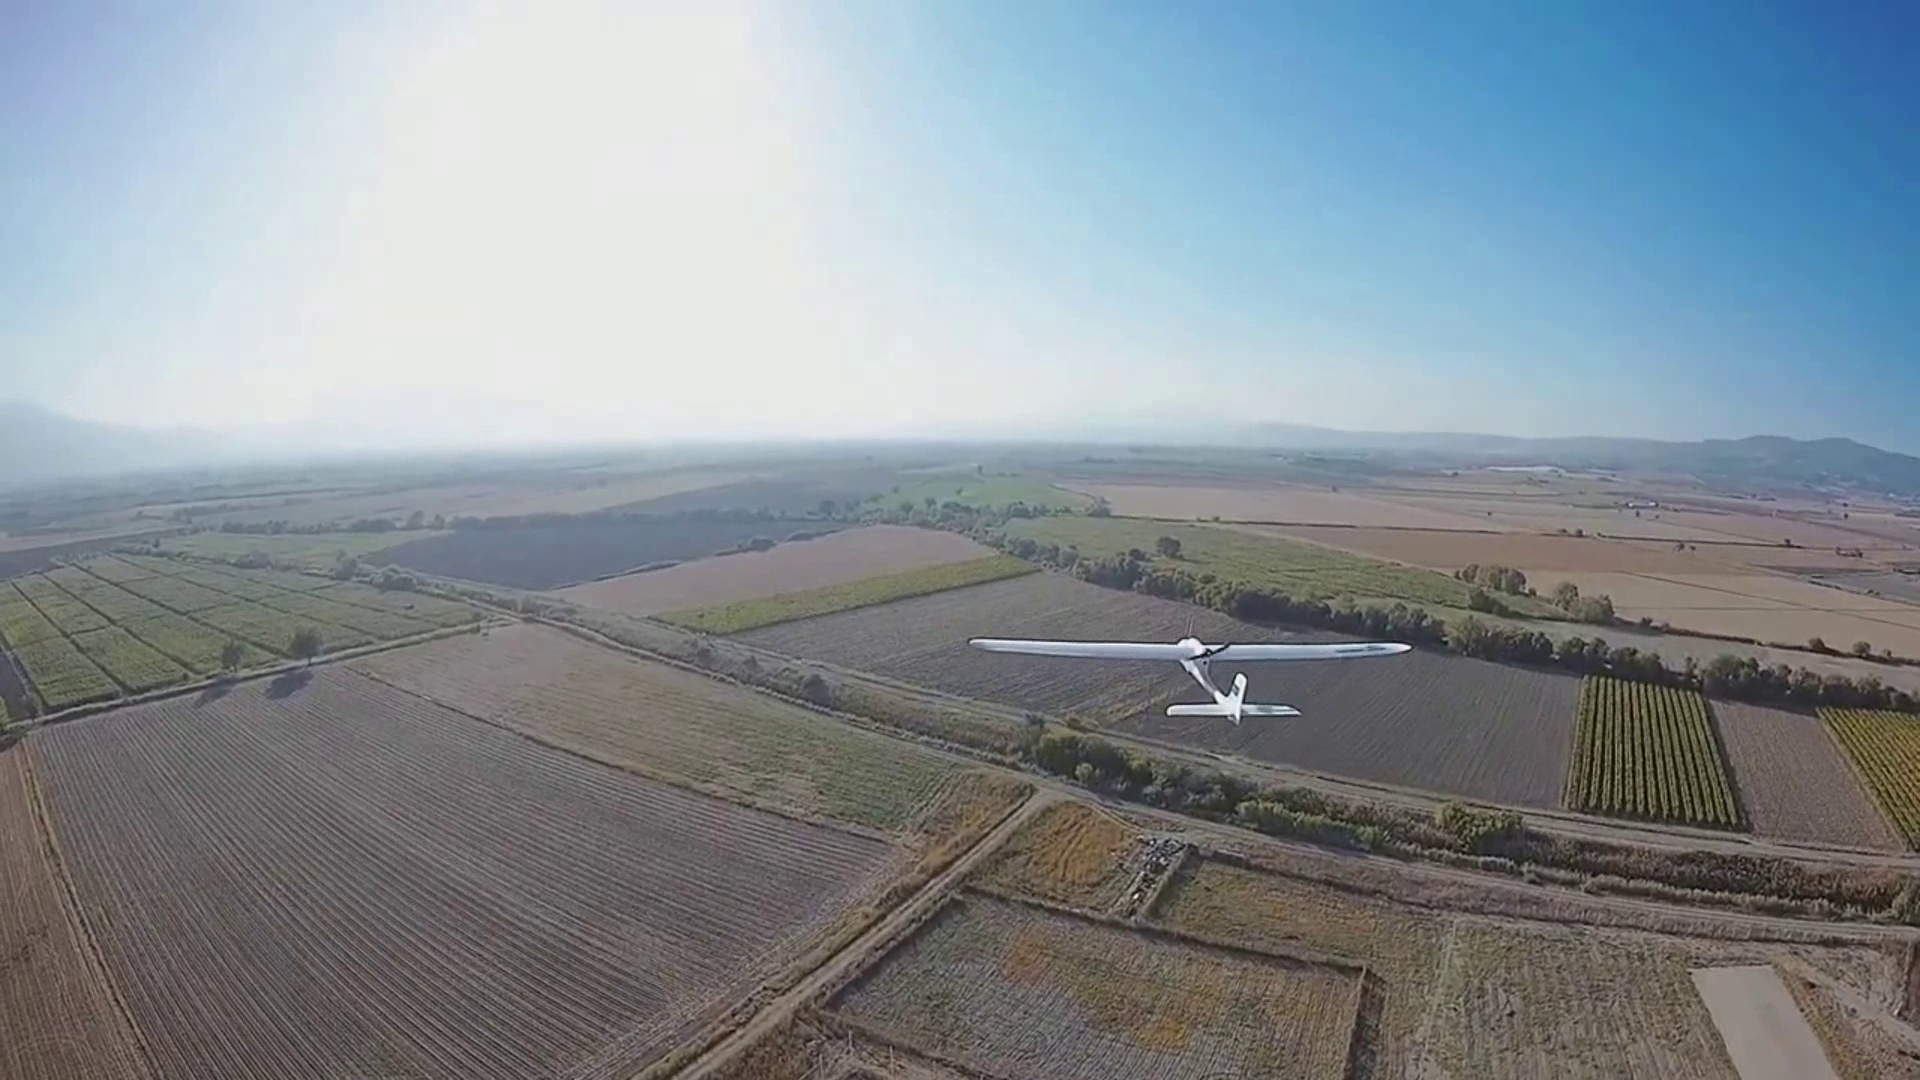airplane: (966, 625, 1411, 721)
